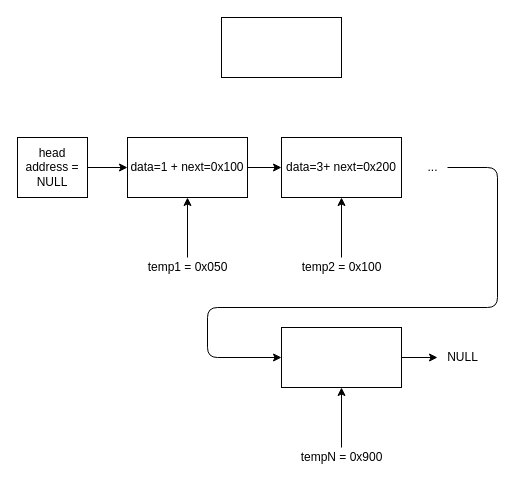
The diagram is 523 pixels wide and 485 high, and some of its shapes have lost their labels. Here are the shapes that lost their labels. From the top down, the centre of each, then its label:
point 281,47: Node : data + next
point 341,357: data=5 + next=head
